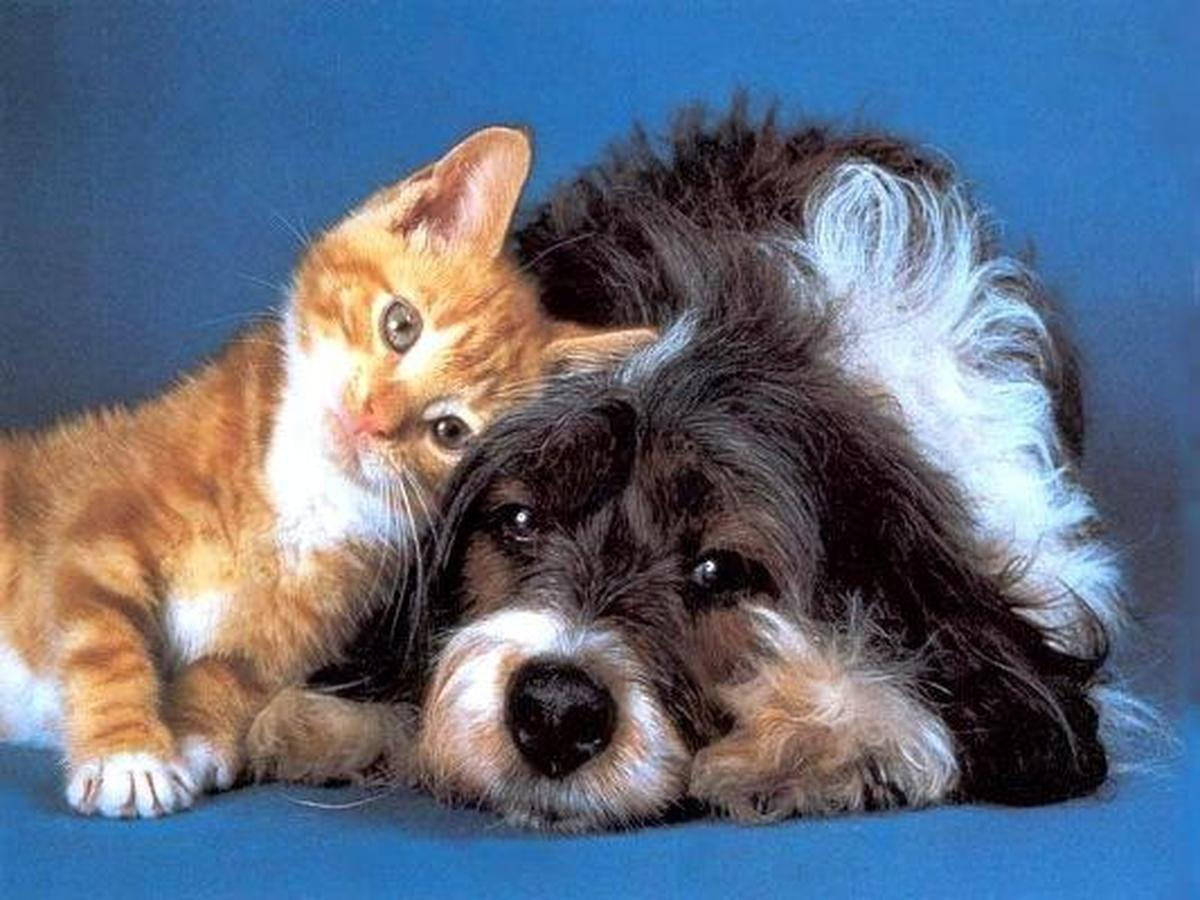animals: (433, 383, 1100, 859), (0, 143, 626, 527)
